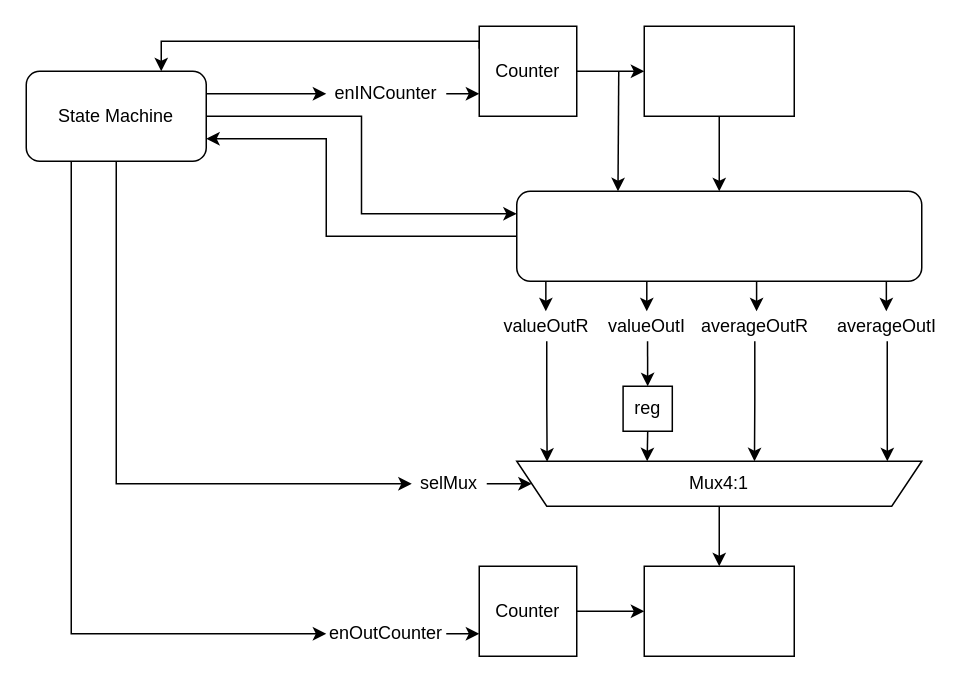
This 963x683 diagram has some shape labels left out. Each missing label, with the box of its shape:
Datapath: (515, 190, 922, 281)
MemIN: (643, 25, 794, 116)
MemOut: (643, 565, 794, 656)
